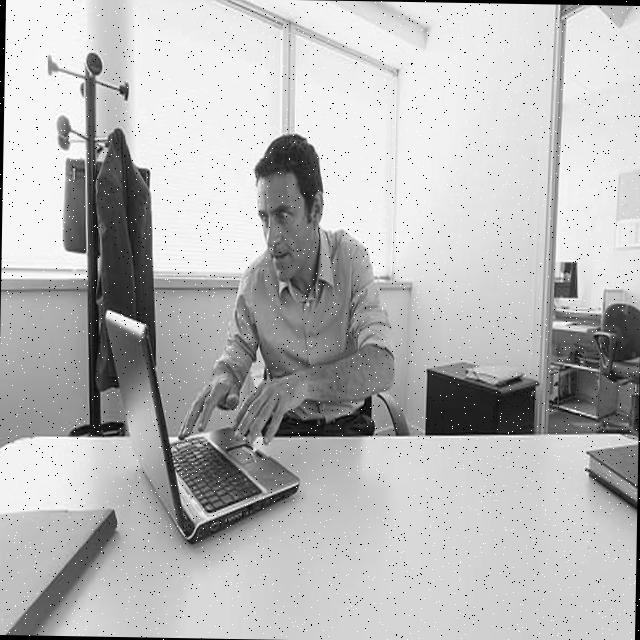Surprised: (254, 170, 317, 282)
